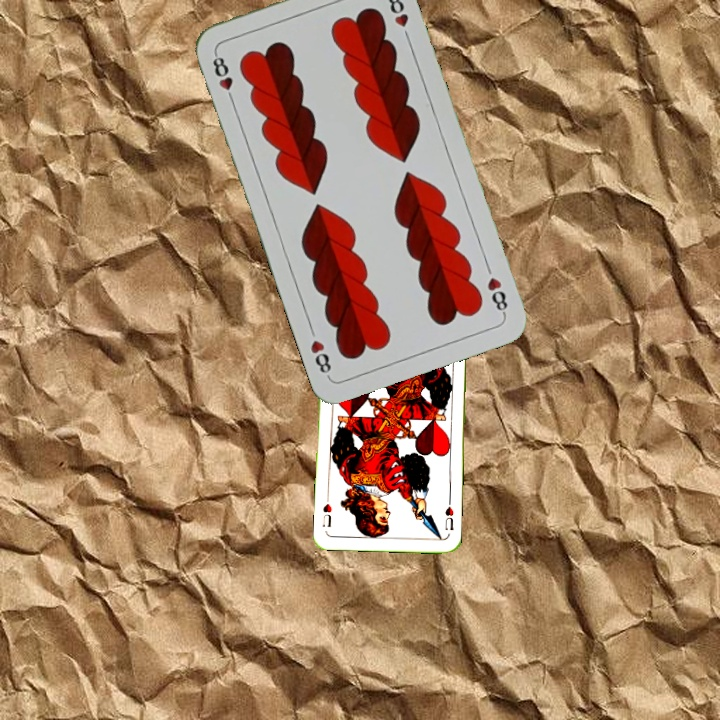H8: (208, 49, 237, 106), (483, 273, 510, 318)
HU: (441, 497, 456, 533)
